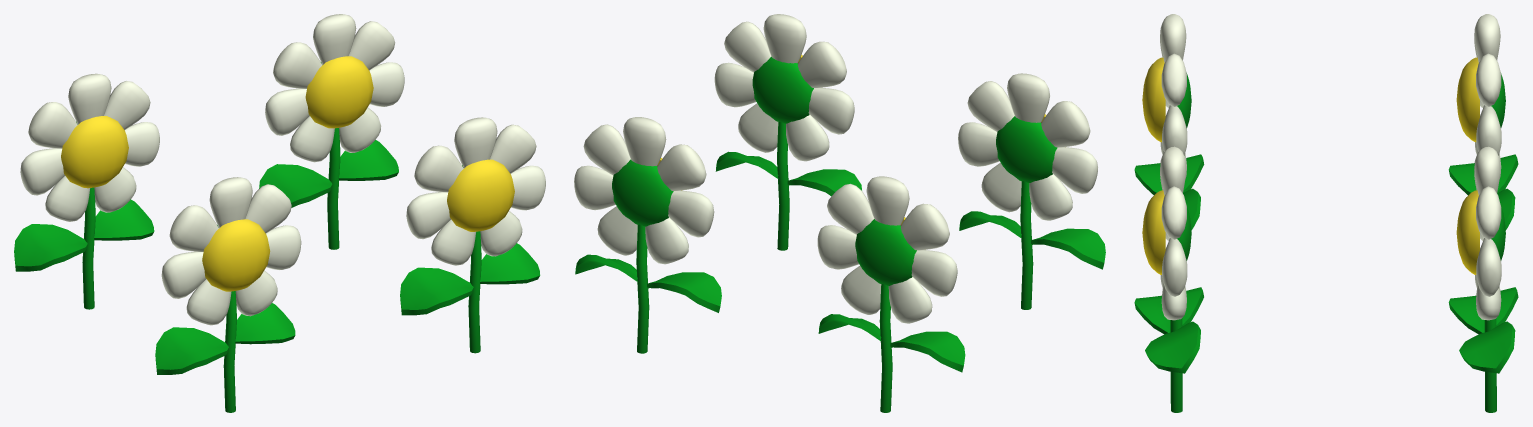
The model's file is Farm_Crop_Daisy_Step_03.fbx.
The picture shows the model from 3 angles, left to right: view 1: azimuth 30°, elevation 25°; view 2: azimuth 150°, elevation 25°; view 3: azimuth 270°, elevation 25°; orthographic projection. The views are drawn at different scales.
Visible parts, largest first — view 1: Farm_Crop_Daisy_Step_03; view 2: Farm_Crop_Daisy_Step_03; view 3: Farm_Crop_Daisy_Step_03.
Part boxes in pixels (bbox=[...]): Farm_Crop_Daisy_Step_03: bbox=[14, 14, 545, 412]; Farm_Crop_Daisy_Step_03: bbox=[574, 14, 1105, 412]; Farm_Crop_Daisy_Step_03: bbox=[1134, 14, 1518, 412].
Size of the model in its own units: 159 by 90.75 by 122.
